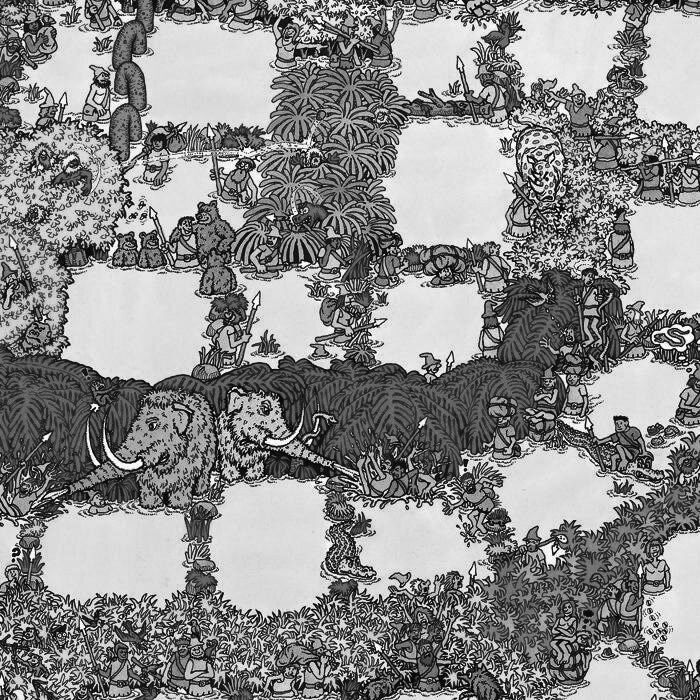Waldo: (48, 618, 70, 647)
